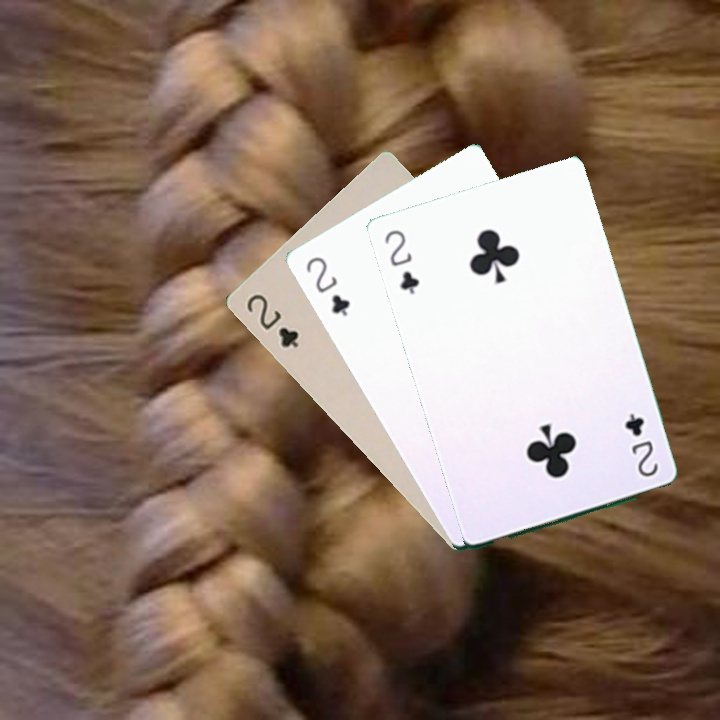2c: (242, 289, 301, 351), (301, 252, 353, 319), (380, 225, 422, 297), (620, 409, 661, 480)
